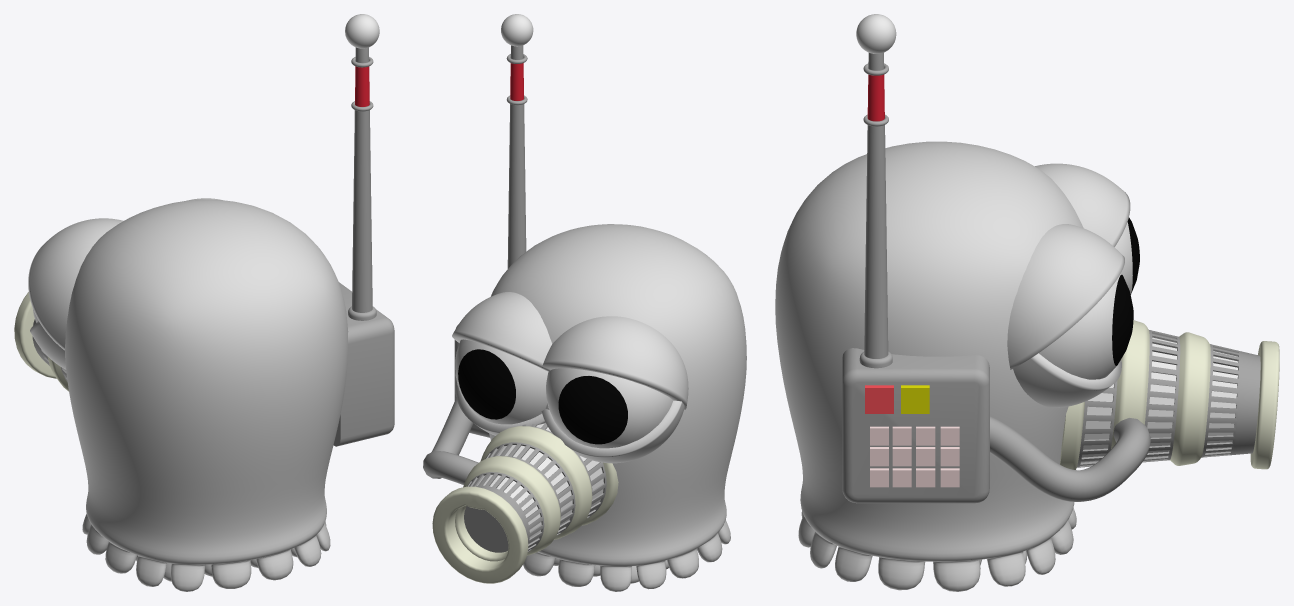
Rendered from character-1.fbx.
The picture shows the model from 3 angles, left to right: view 1: azimuth 30°, elevation 25°; view 2: azimuth 150°, elevation 25°; view 3: azimuth 270°, elevation 25°; orthographic projection. The views are drawn at different scales.
Visible parts, largest first — view 1: NurbsPath.007; view 2: NurbsPath.007; view 3: NurbsPath.007.
Part boxes in pixels (<box>): NurbsPath.007: <box>14,14,394,591</box>; NurbsPath.007: <box>423,14,746,591</box>; NurbsPath.007: <box>775,14,1279,591</box>.
Bounding box in the file's own units: 2.93 × 5.21 × 4.02.
